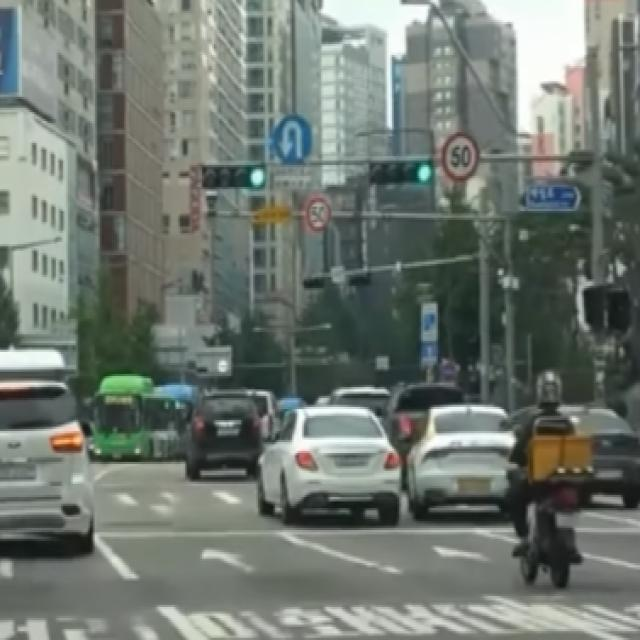Green Light: (246, 162, 266, 188), (414, 162, 433, 186)
